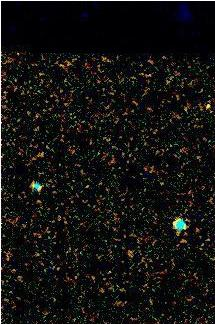star: (190, 91, 215, 121)
